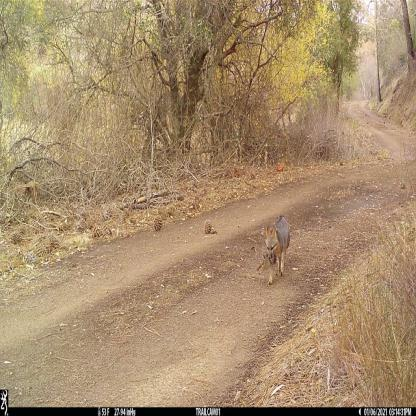zorro: (262, 212, 297, 287)
